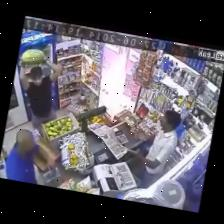person: (128, 110, 180, 188), (19, 58, 62, 134), (4, 129, 54, 183)
